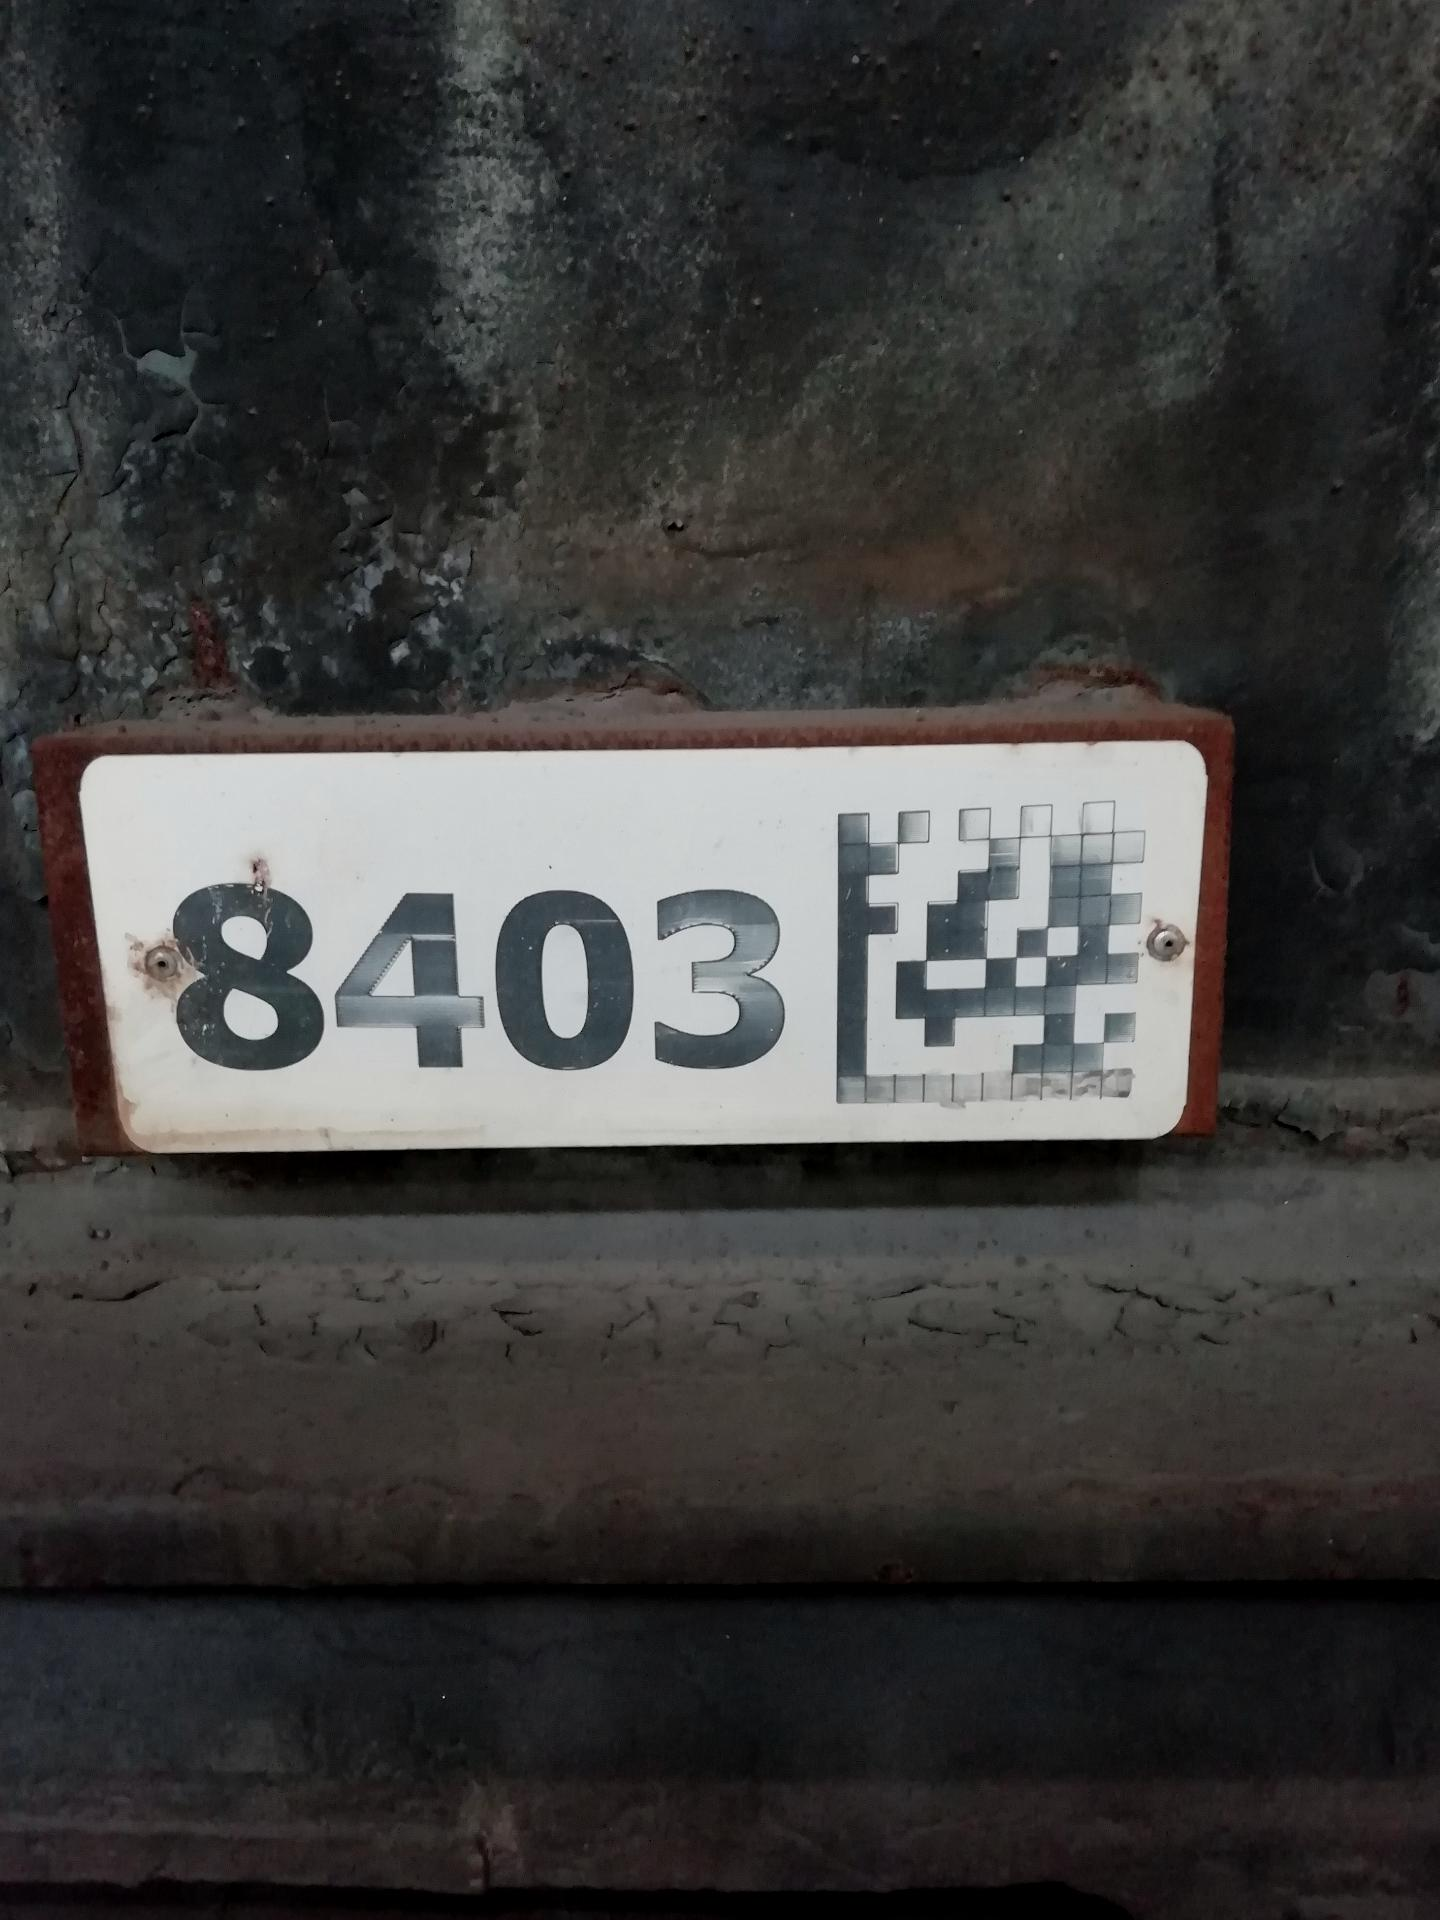data matrix: (802, 762, 1181, 1143)
